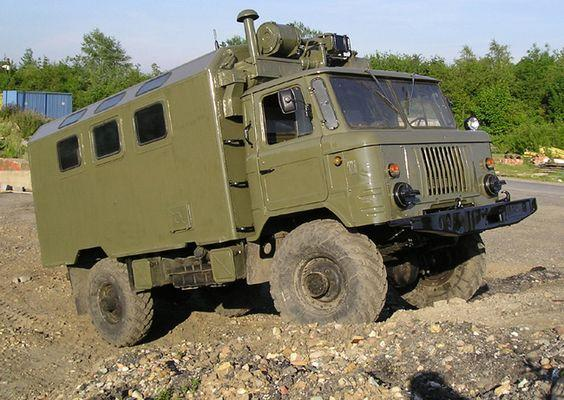ambulance: (30, 38, 484, 344)
